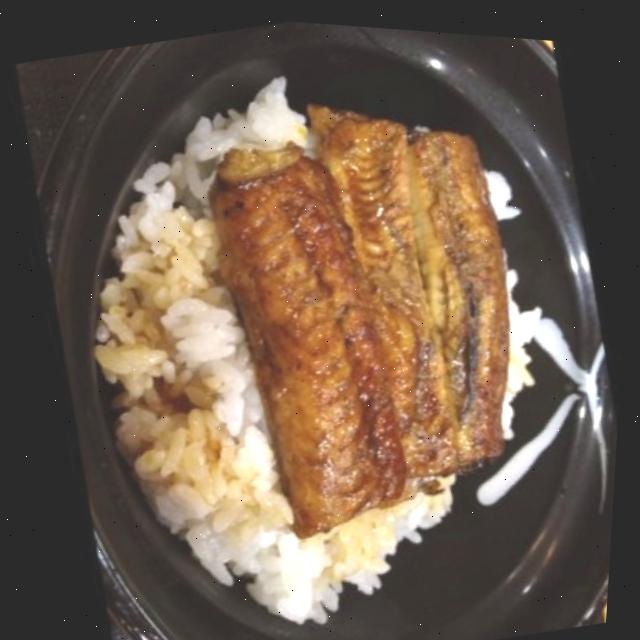熟制海鲜: (146, 51, 588, 577)
